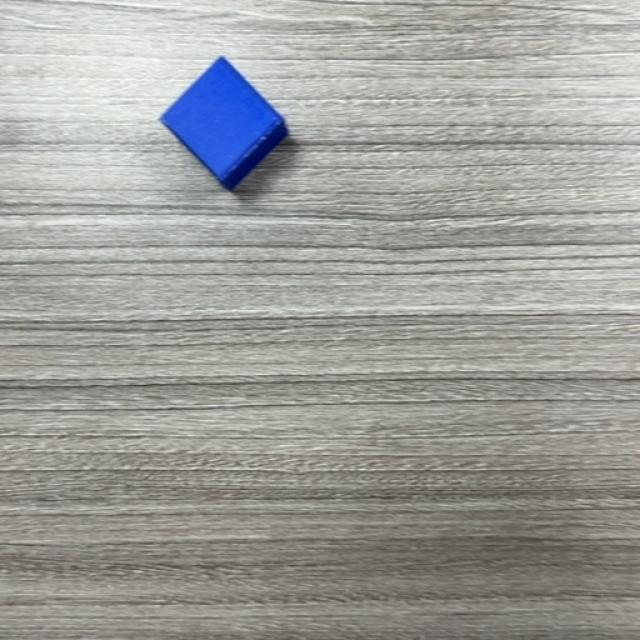Azul: (158, 56, 290, 192)
